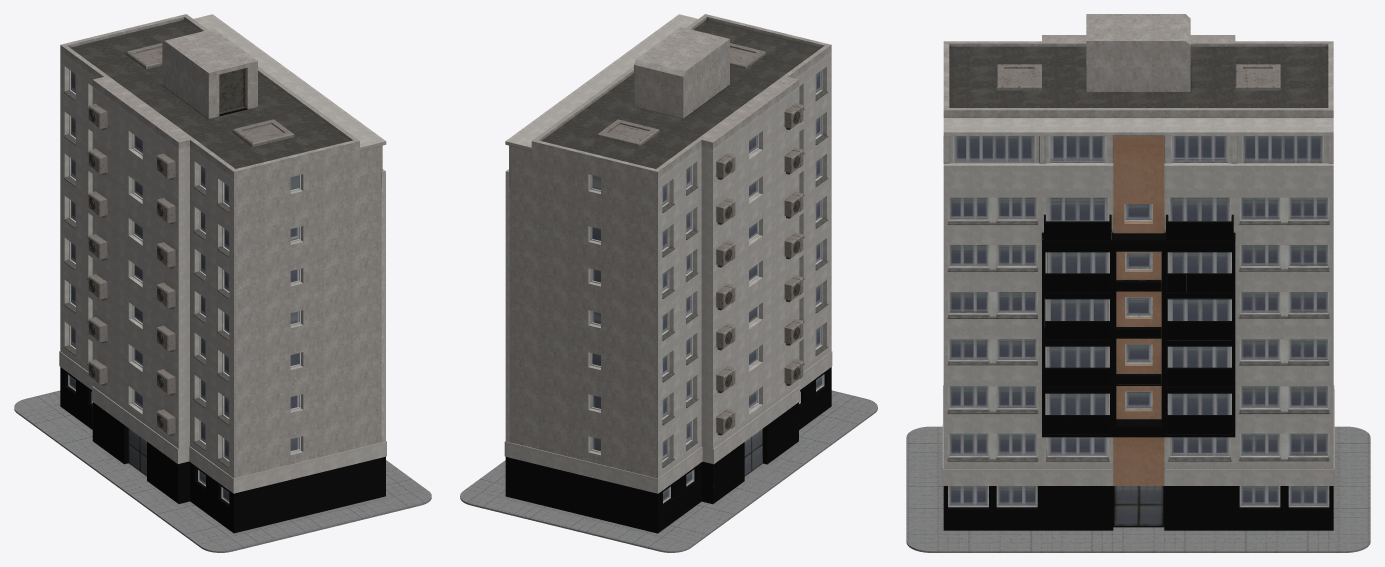
Rendered from bld22_03.glb.
The picture shows the model from 3 angles, left to right: view 1: azimuth 30°, elevation 25°; view 2: azimuth 150°, elevation 25°; view 3: azimuth 270°, elevation 25°; orthographic projection. The views are drawn at different scales.
Visible parts, largest first — view 1: bld22_03; view 2: bld22_03; view 3: bld22_03.
Part boxes in pixels (box(x1,y1,x2,y2)): bld22_03: box(14, 14, 431, 552); bld22_03: box(460, 14, 877, 552); bld22_03: box(906, 14, 1370, 552).
Size of the model in its own units: 32.31 by 55.11 by 50.82.
1 material, 1 textured.
